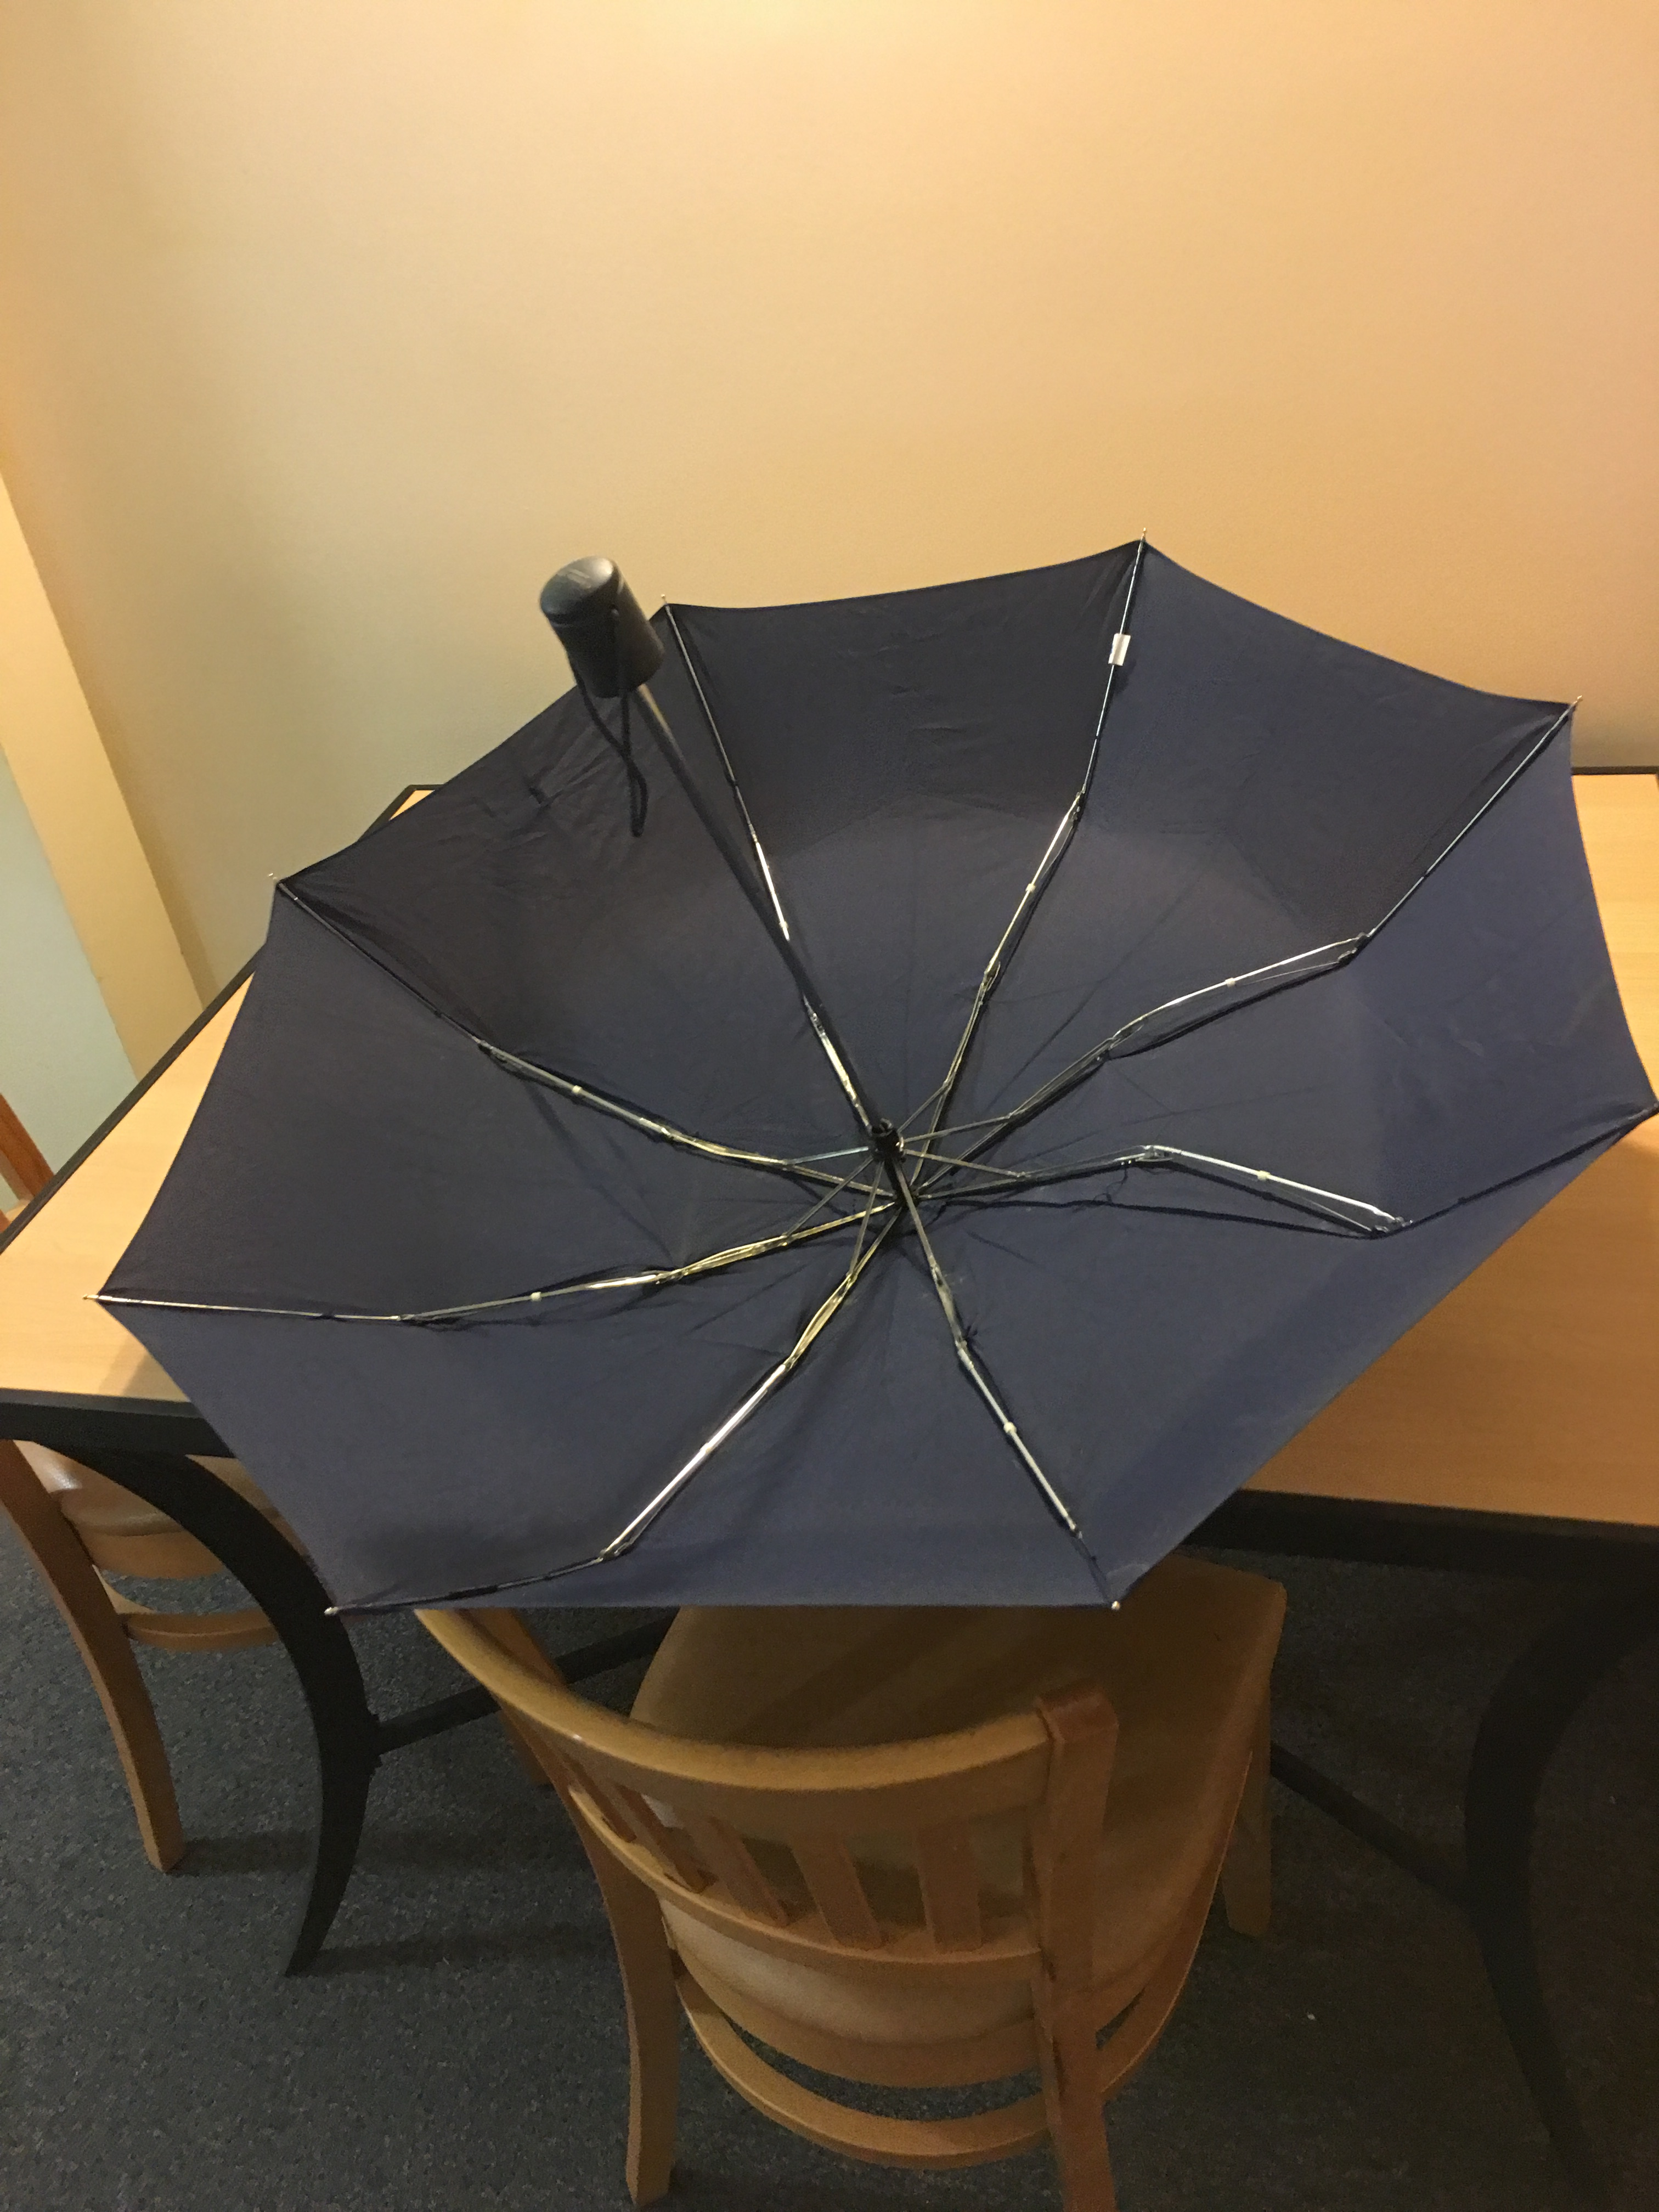Umbrella: (82, 521, 1659, 1620)
